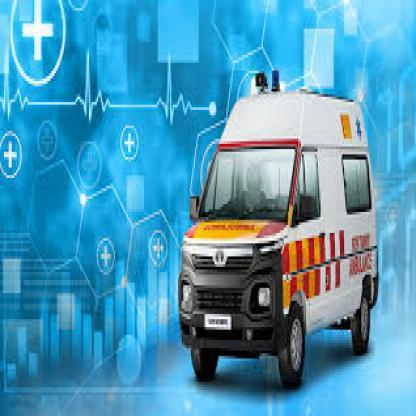Ambulance - v1 Ambulance last generate: (173, 92, 379, 380)
